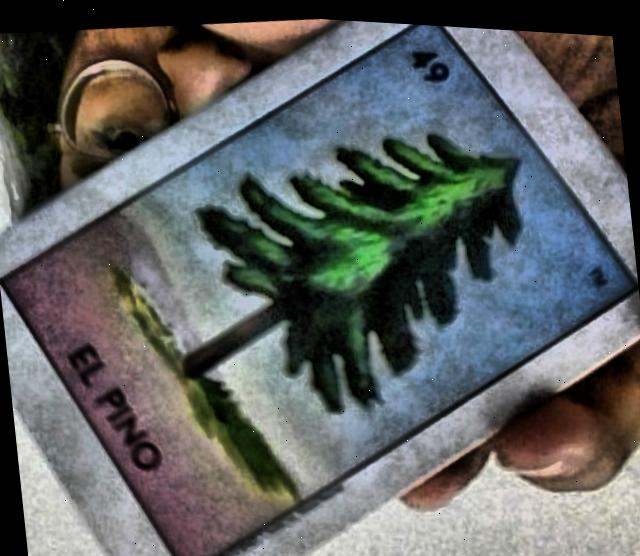El Pino: (0, 22, 637, 556)
